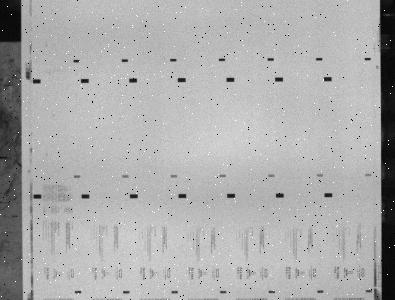backgroundclutter: (376, 65, 379, 69)
incorrect qblock: (75, 290, 82, 294), (171, 290, 178, 294), (123, 290, 130, 294), (122, 174, 129, 178), (317, 173, 324, 177), (171, 174, 177, 178), (317, 290, 324, 293), (269, 290, 276, 293), (220, 290, 227, 293), (219, 174, 226, 177), (268, 174, 275, 177), (365, 173, 372, 176), (74, 175, 80, 178), (366, 290, 372, 292)
qblock: (177, 77, 187, 83), (81, 194, 90, 199), (227, 193, 236, 198), (226, 77, 235, 82), (80, 78, 89, 83), (33, 194, 42, 199), (178, 193, 187, 198), (129, 78, 137, 83), (276, 193, 284, 198), (33, 79, 41, 84), (275, 77, 283, 82), (324, 193, 333, 197), (324, 77, 332, 81), (130, 194, 138, 198)
smallqblock: (364, 57, 371, 61), (170, 58, 177, 62), (316, 57, 322, 61), (73, 59, 80, 62), (121, 59, 128, 62), (267, 58, 274, 61), (219, 58, 226, 61)
